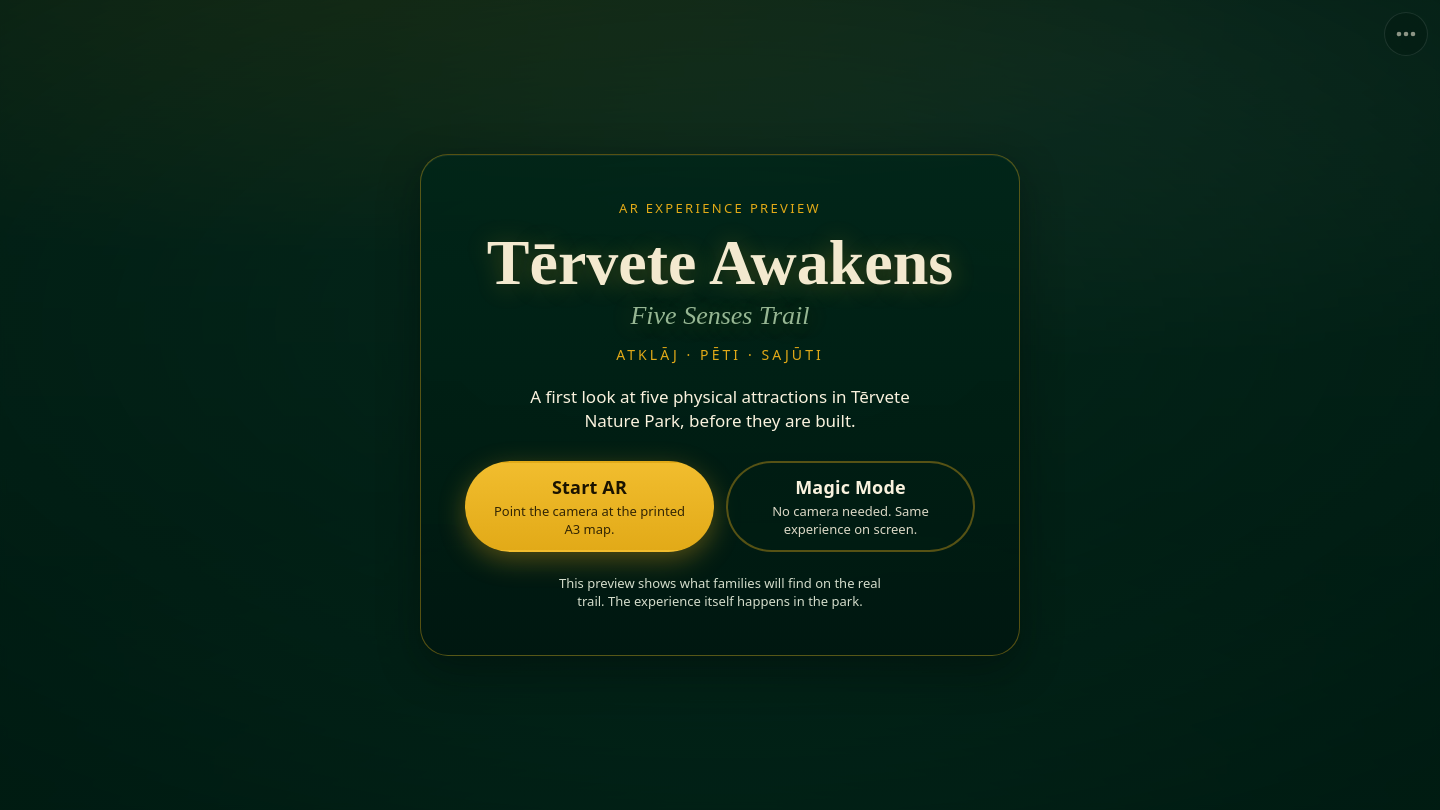
it: AR mode and its fallbacks › AR unsupported continues in Magic Mode with a message and no dead end
Later steps or results of the test are not shown.
Click the button "Start AR Point the camera at the printed A3 map." at (590, 506), box [465,461,714,552]
Wait 50 ms
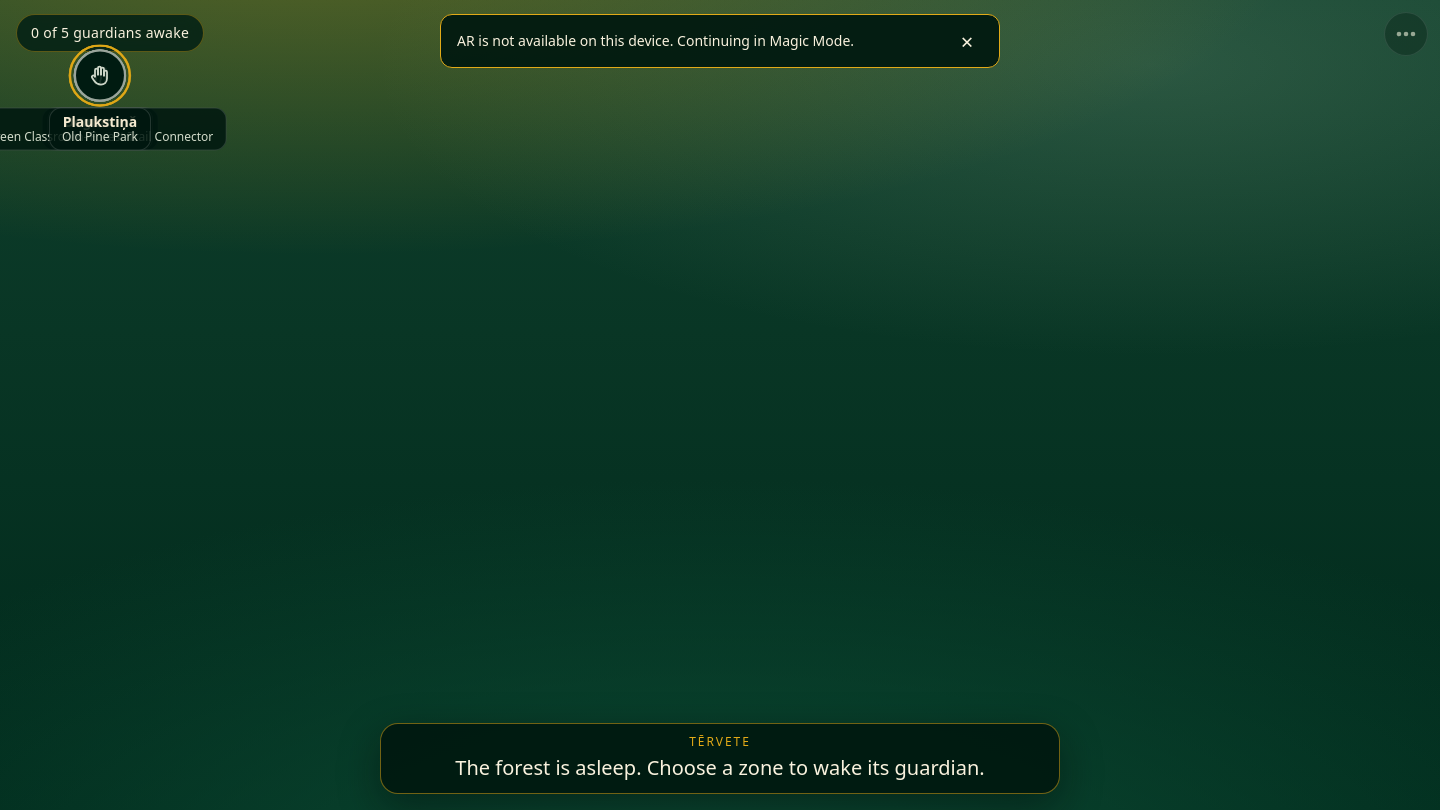
Expected: the text "AR is not available on this device. Continuing in Magic Mode." is shown, [457,31,854,51]
Expected: the text "0 of 5 guardians awake" is shown, [16,14,204,52]
